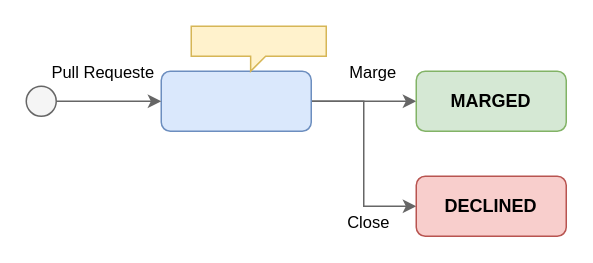
Image size: 593x263. Some labels were removed from this diagram. Each missing label, with the box of its shape:
OPEN: (160, 70, 311, 131)
UNDER REVIEW: (190, 25, 326, 71)
